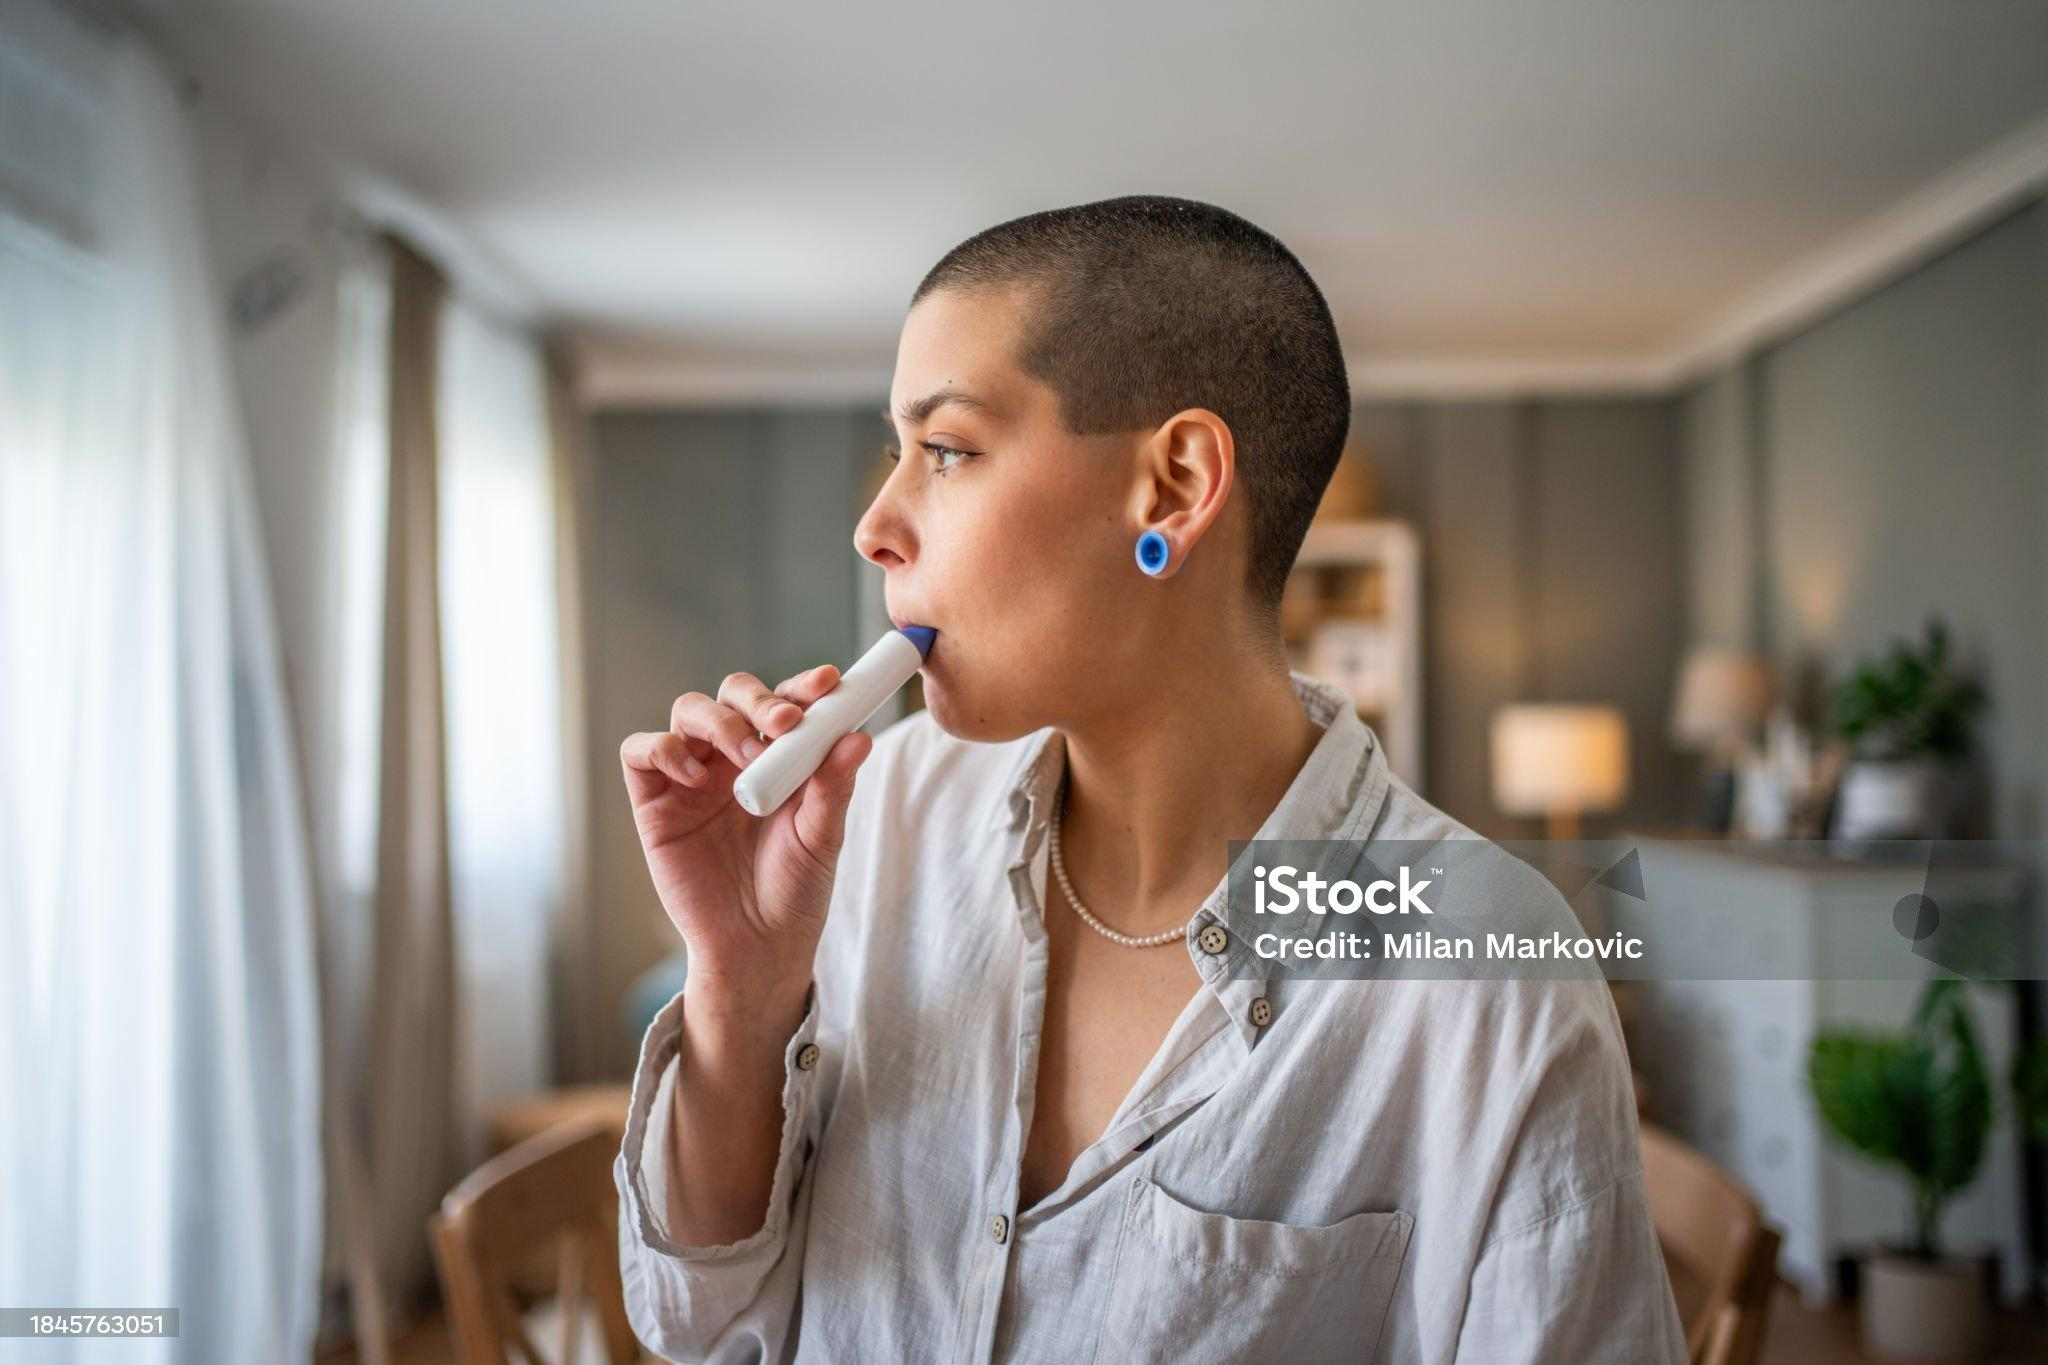Vape: (731, 625, 936, 820)
